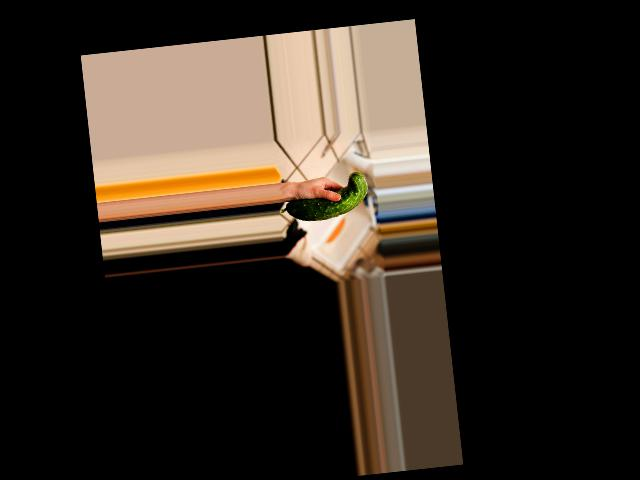cucumber: (277, 171, 370, 225)
